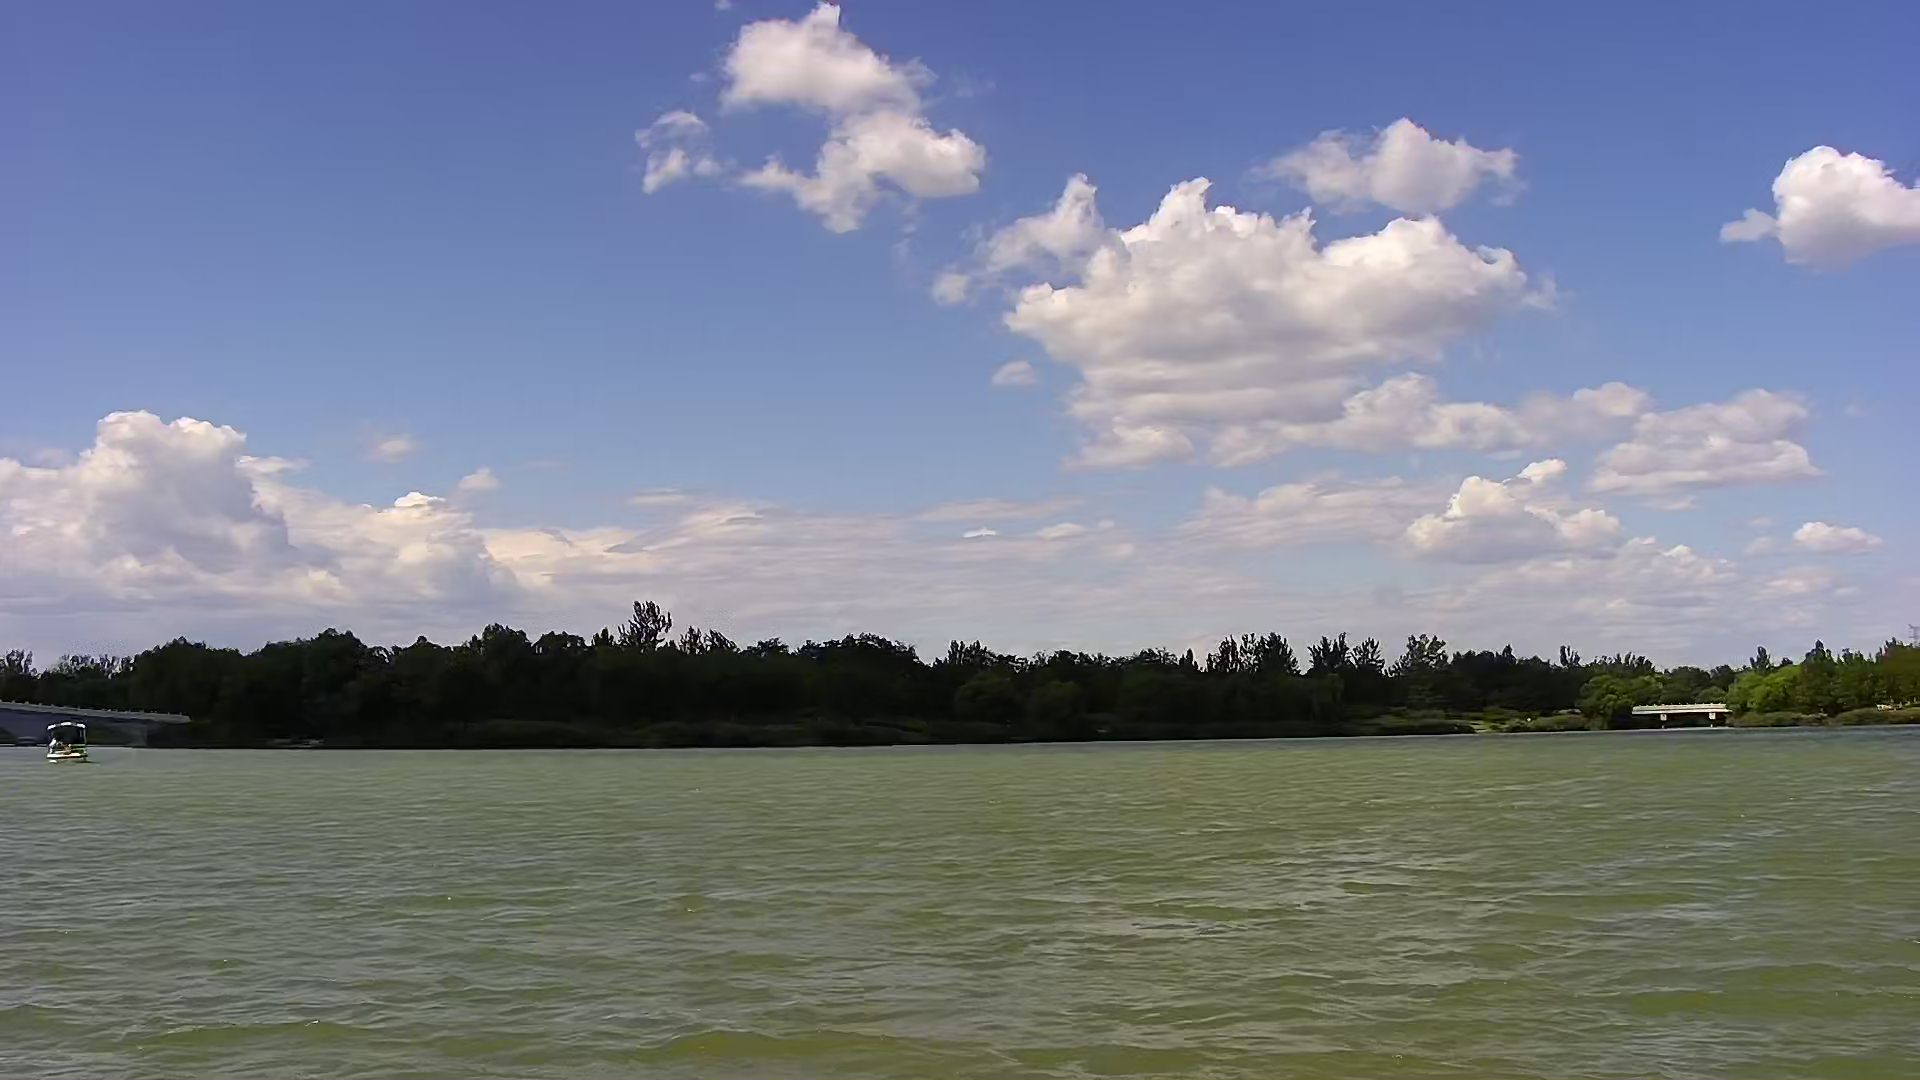boat: (40, 717, 99, 767)
bridge: (1, 695, 185, 749), (1627, 696, 1737, 733)
